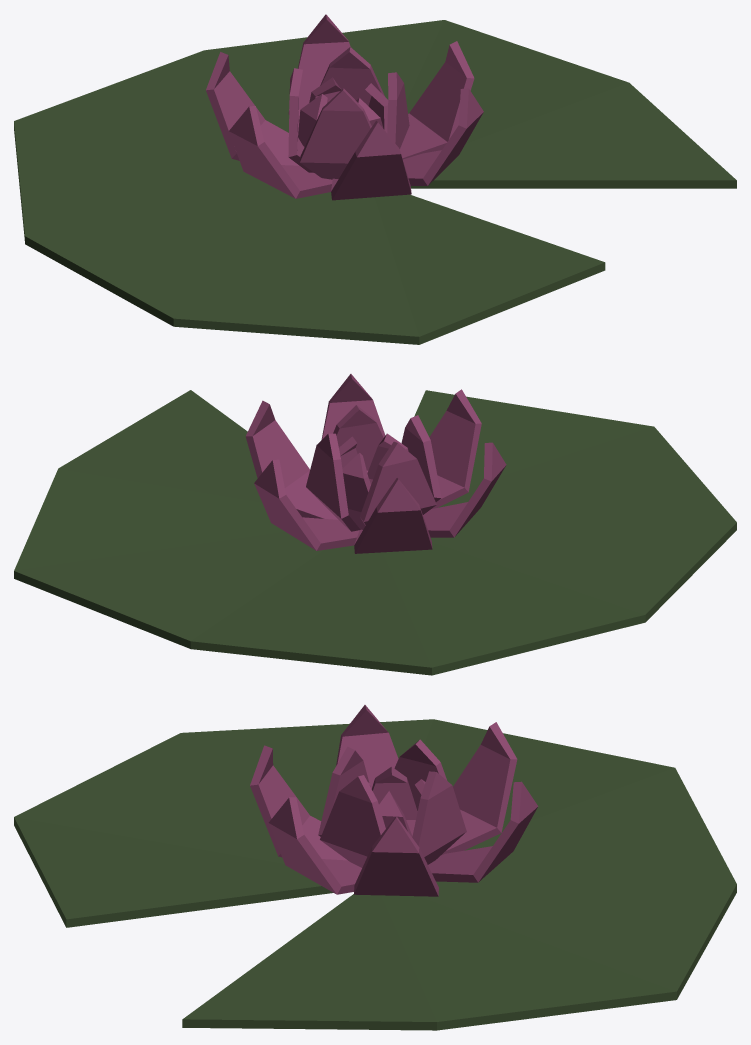
Rendered from Lilypad.glb.
3 renders of one model, top to bottom at view 1: azimuth 30°, elevation 25°; view 2: azimuth 150°, elevation 25°; view 3: azimuth 270°, elevation 25°, orthographic. The views are drawn at different scales.
Visible parts, largest first — view 1: Lilypad; view 2: Lilypad; view 3: Lilypad.
Part boxes in pixels (x1,y1,x2,y2): Lilypad: (14, 14, 736, 344); Lilypad: (14, 374, 736, 675); Lilypad: (14, 705, 736, 1030).
Size of the model in its own units: 1.2 by 0.2209 by 1.19.
